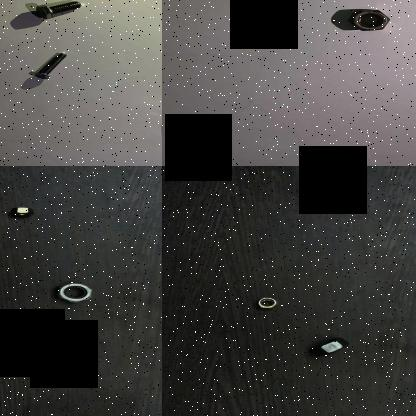Bolts: (22, 48, 71, 80), (27, 0, 86, 19)
NUTS: (349, 6, 393, 31), (310, 334, 352, 358), (50, 282, 98, 302), (4, 203, 38, 220), (250, 294, 278, 310)
